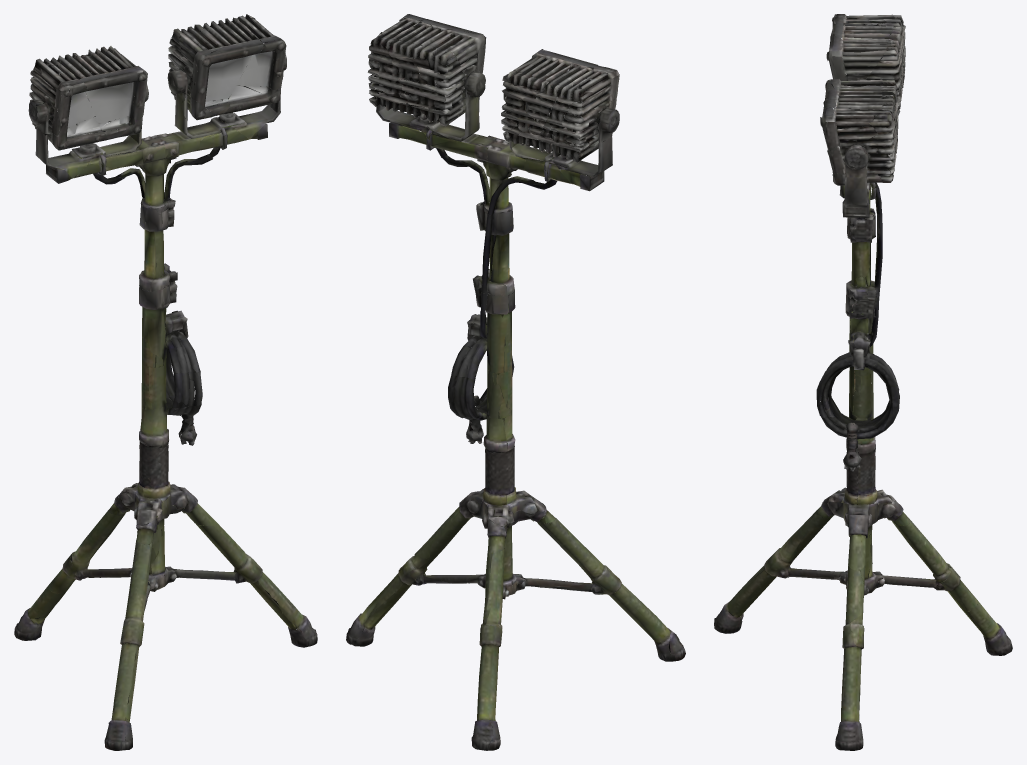
The model's file is prop_worklight.glb.
3 views of the same model, side by side, from view 1: azimuth 30°, elevation 25°; view 2: azimuth 150°, elevation 25°; view 3: azimuth 270°, elevation 25° (orthographic). The views are drawn at different scales.
Visible parts, largest first — view 1: prop_worklight; view 2: prop_worklight; view 3: prop_worklight.
Part boxes in pixels (x1,y1,x2,y2): prop_worklight: (14,14,317,750); prop_worklight: (346,14,685,750); prop_worklight: (714,14,1012,750).
Bounding box in the file's own units: 0.8722 × 1.9 × 0.834.
Materials: 1 (1 with a texture image).
